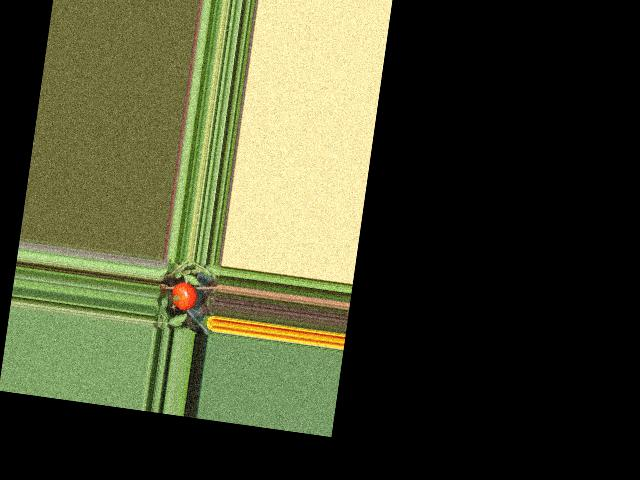tomato: (170, 280, 199, 311)
